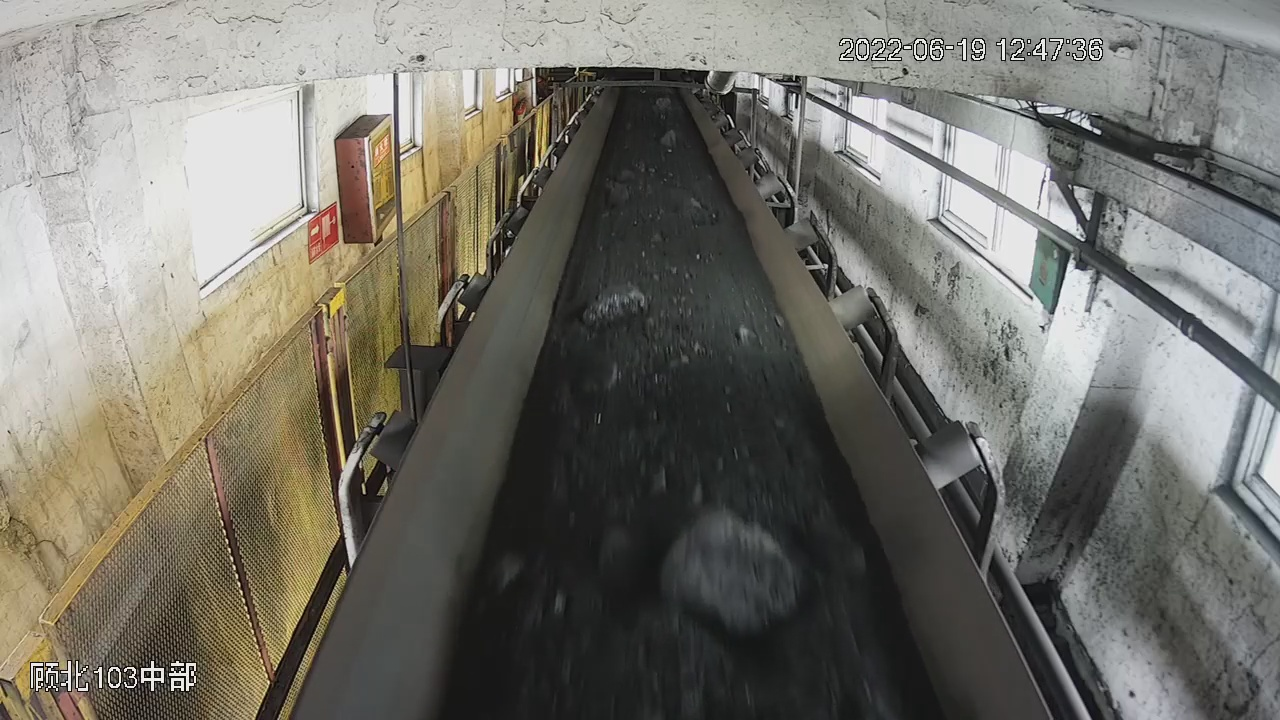gangue: (665, 507, 796, 635), (581, 279, 650, 332), (599, 526, 622, 566), (608, 179, 628, 208), (653, 94, 671, 113), (739, 322, 754, 343), (661, 130, 676, 147)
